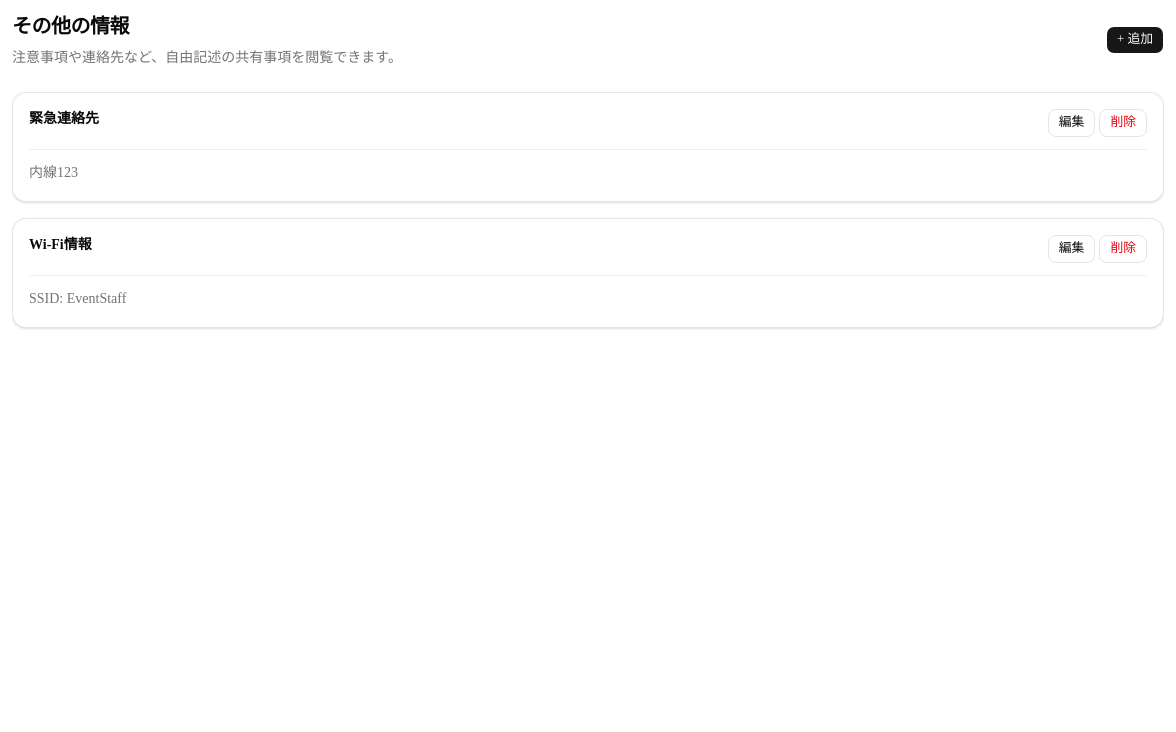
Test: OtherItemAdminPanel › キャンセルボタンでフォームを閉じる
The width and height of the screenshot is (1176, 732).
Click the button "+ 追加" at (1135, 40), box x1=1106 y1=26 x2=1164 y2=54
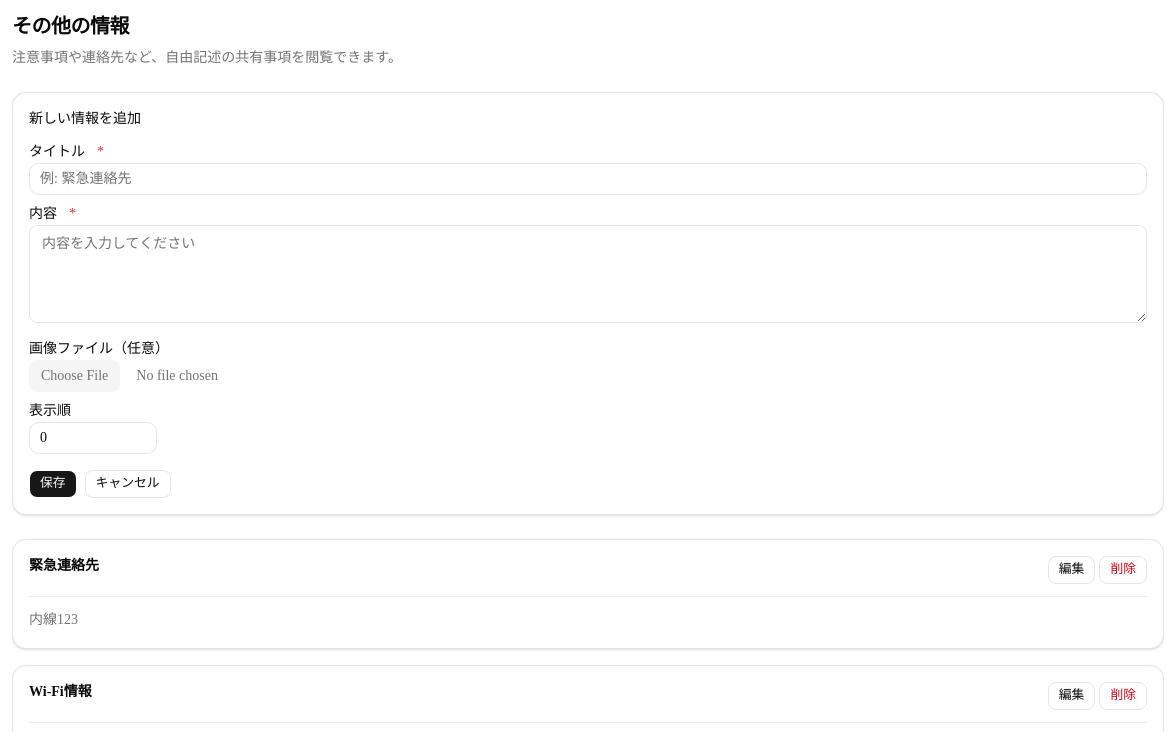
Check: the heading "新しい情報を追加" is shown, box x1=29 y1=111 x2=141 y2=126
Click the button "キャンセル" at (128, 484), box x1=85 y1=470 x2=171 y2=498
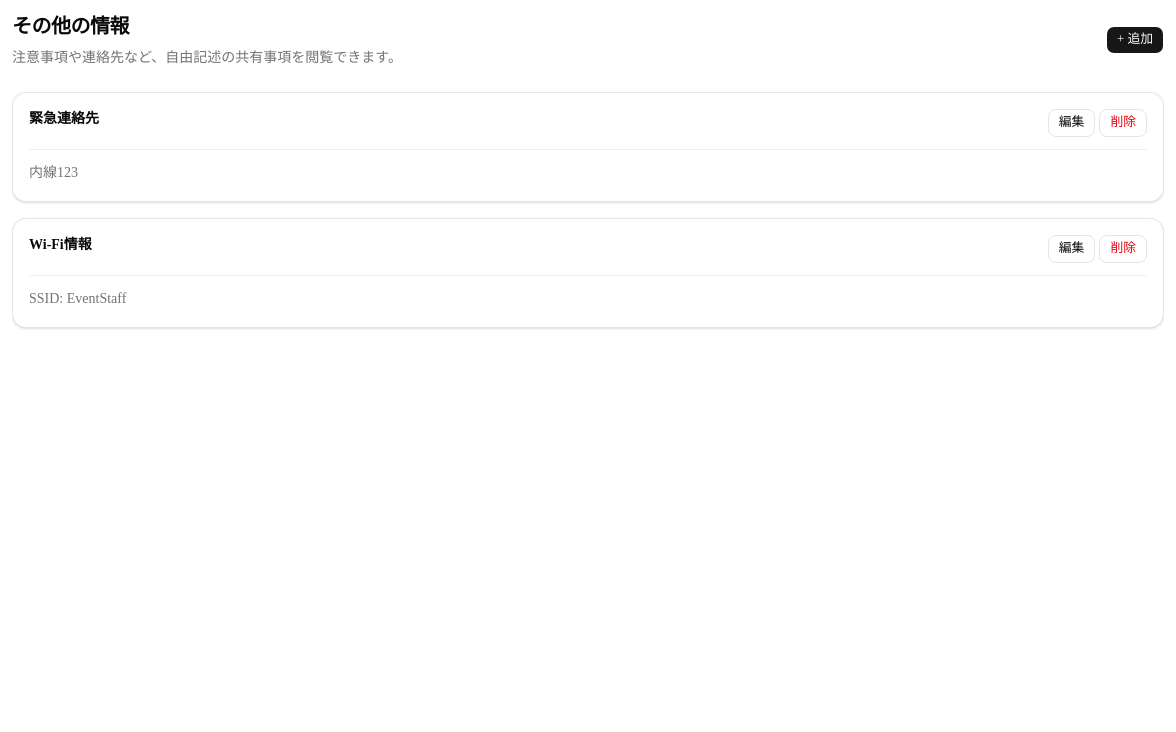
Check: the heading "新しい情報を追加" is gone
